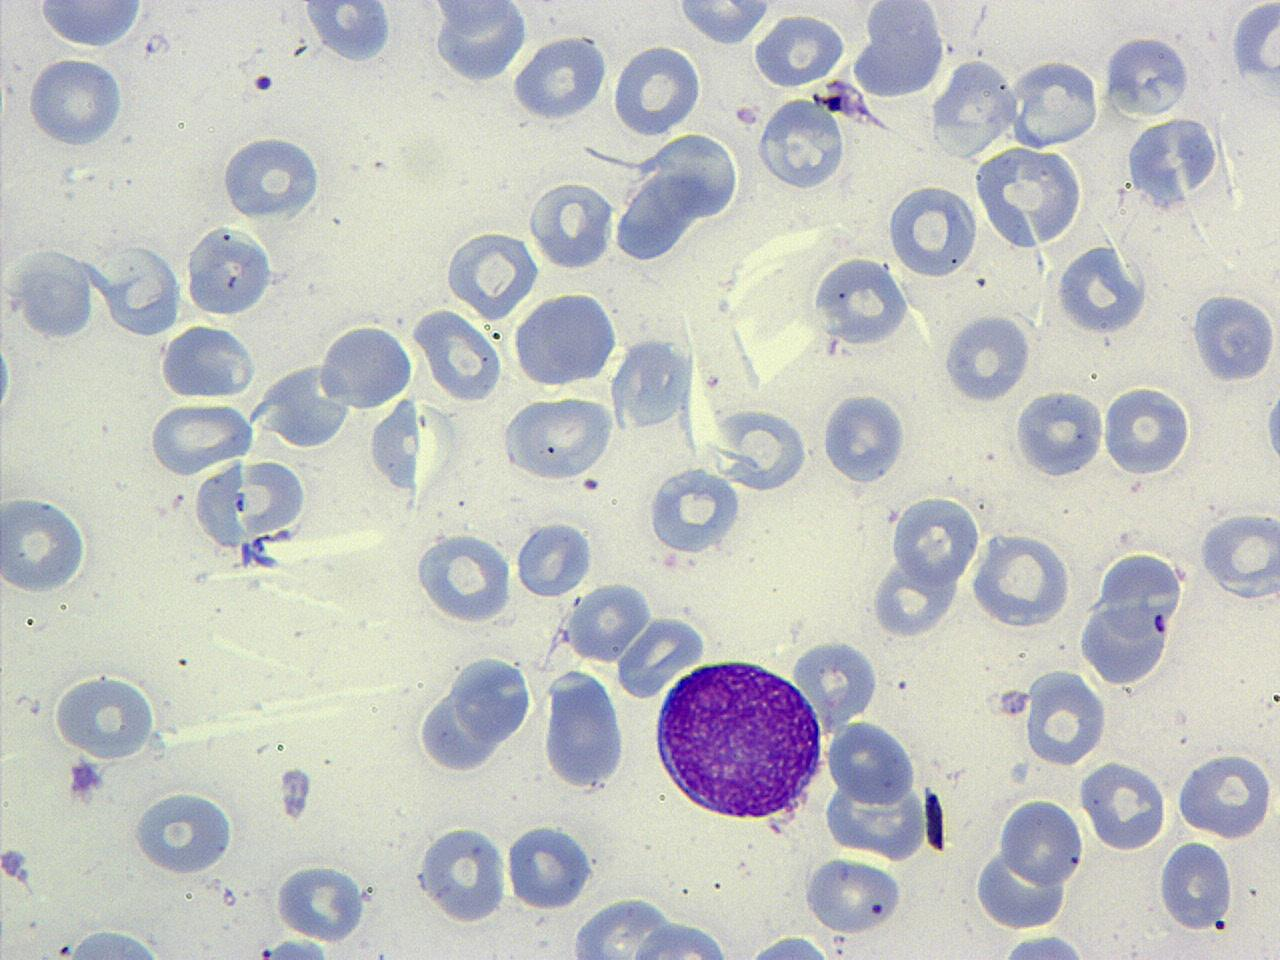Platelets: (278, 765, 316, 823), (1262, 382, 1280, 478), (67, 756, 103, 800), (0, 334, 17, 423), (996, 686, 1032, 718), (1, 846, 29, 879), (144, 33, 168, 58), (252, 72, 275, 92), (1212, 915, 1228, 931), (258, 944, 274, 960), (59, 943, 72, 958)
RBC: (970, 529, 1074, 632), (501, 392, 615, 484), (49, 666, 159, 761), (414, 820, 508, 928), (848, 1, 947, 102), (412, 530, 515, 626), (24, 54, 127, 149), (129, 788, 237, 878), (442, 223, 540, 322), (316, 316, 414, 414), (509, 32, 610, 127), (758, 92, 853, 193), (410, 306, 505, 404), (823, 391, 914, 493), (884, 182, 980, 278), (888, 490, 982, 588), (928, 56, 1017, 159), (707, 407, 812, 494), (610, 41, 704, 138), (1076, 757, 1170, 852), (182, 224, 277, 318), (1053, 244, 1149, 336), (1012, 387, 1106, 480), (566, 575, 658, 670), (1101, 383, 1193, 478), (1187, 288, 1277, 385), (609, 333, 697, 432), (1022, 667, 1109, 767), (940, 312, 1033, 405), (790, 634, 882, 728), (1009, 56, 1103, 148), (612, 612, 708, 702), (272, 856, 370, 943), (649, 468, 743, 558), (146, 399, 254, 477), (97, 241, 182, 340), (826, 718, 920, 807), (802, 854, 904, 936), (504, 820, 596, 910), (528, 178, 614, 272), (157, 323, 259, 401), (1102, 32, 1192, 120), (750, 9, 848, 89), (997, 795, 1083, 886), (866, 558, 962, 639), (1157, 836, 1235, 932), (513, 515, 596, 599), (34, 0, 147, 51), (672, 0, 770, 46)
WBC: (652, 652, 826, 824), (822, 710, 952, 870), (609, 131, 743, 264), (1074, 546, 1188, 690), (974, 791, 1088, 934), (412, 650, 537, 777), (189, 454, 311, 570), (973, 142, 1089, 252), (510, 284, 622, 393), (564, 892, 742, 960), (539, 666, 628, 794), (0, 489, 96, 599), (51, 666, 160, 762), (848, 0, 948, 101), (810, 253, 914, 350), (1124, 116, 1224, 215), (315, 314, 416, 412), (413, 823, 509, 926), (25, 56, 129, 151), (219, 131, 326, 223), (754, 92, 850, 194), (1171, 747, 1275, 841), (445, 222, 541, 323), (511, 28, 612, 124), (644, 463, 744, 558), (608, 330, 696, 437), (425, 0, 534, 86), (2, 248, 98, 344), (1054, 244, 1150, 338), (609, 42, 702, 137), (184, 223, 276, 319), (1190, 286, 1280, 384), (821, 388, 909, 487), (1014, 387, 1106, 480), (1198, 504, 1280, 608), (504, 820, 596, 912), (826, 718, 920, 808), (793, 634, 881, 730), (273, 856, 369, 944), (157, 323, 260, 402), (872, 554, 965, 640), (1157, 836, 1235, 934), (300, 1, 396, 65), (366, 396, 426, 494), (32, 1, 146, 50), (1228, 0, 1280, 98), (47, 923, 186, 959), (974, 928, 1118, 958), (738, 933, 846, 960)
